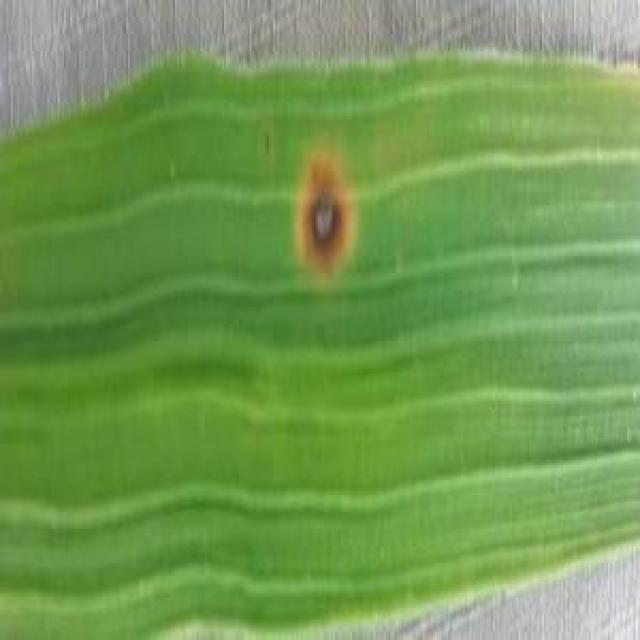brownspots: (271, 157, 395, 276)
